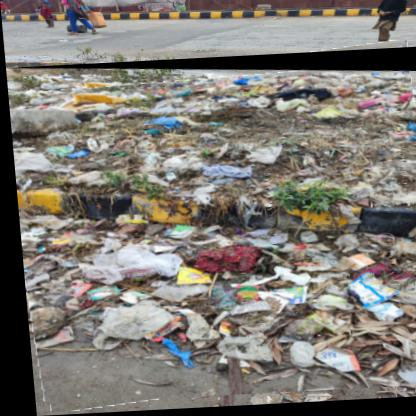Garbage: (5, 52, 416, 408)
